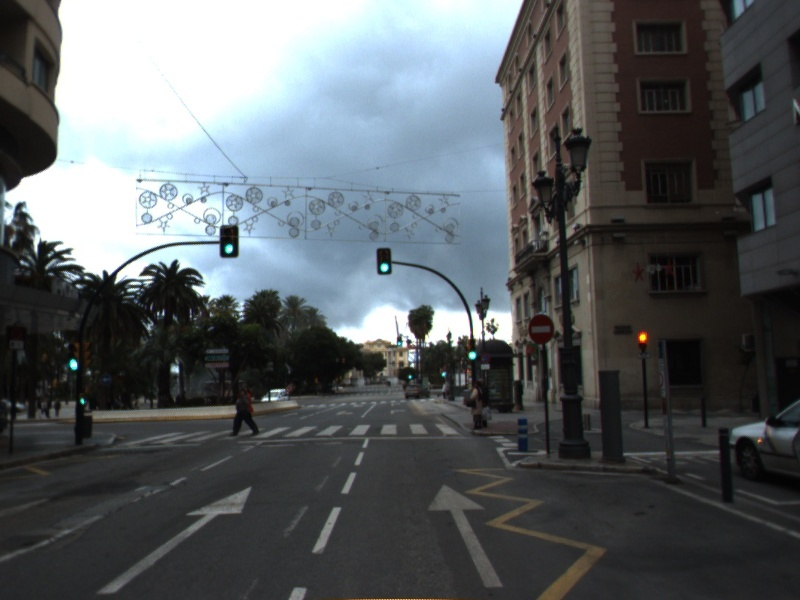STRAIGHT: (93, 481, 255, 596), (424, 482, 507, 590)
